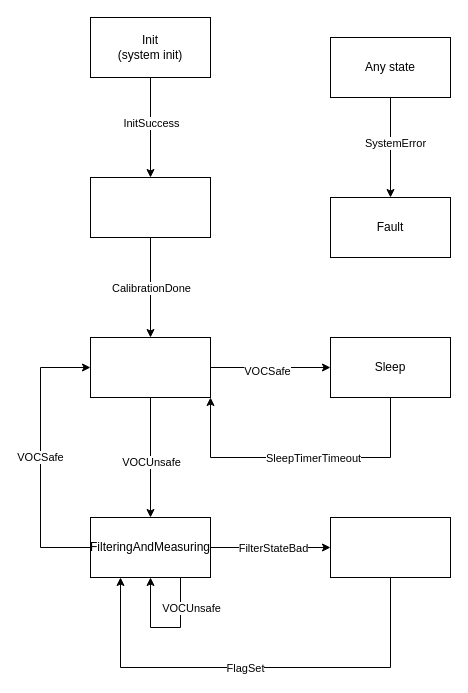
This 468x693 diagram has some shape labels left out. The centre of each missing label's shape, as x and y in pixels:
Calibration: the point at 150,207
FilterBadNotifyFlag: the point at 390,547
IdleMeasurement: the point at 150,367
